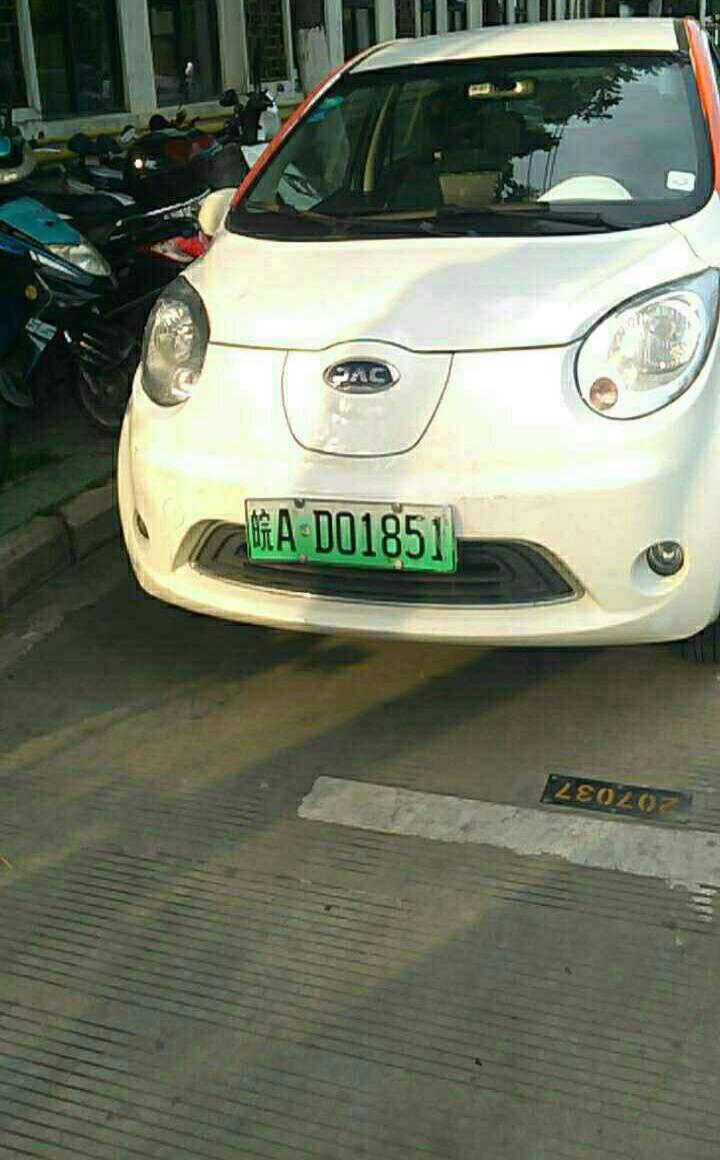car_id: (235, 493, 458, 566)
